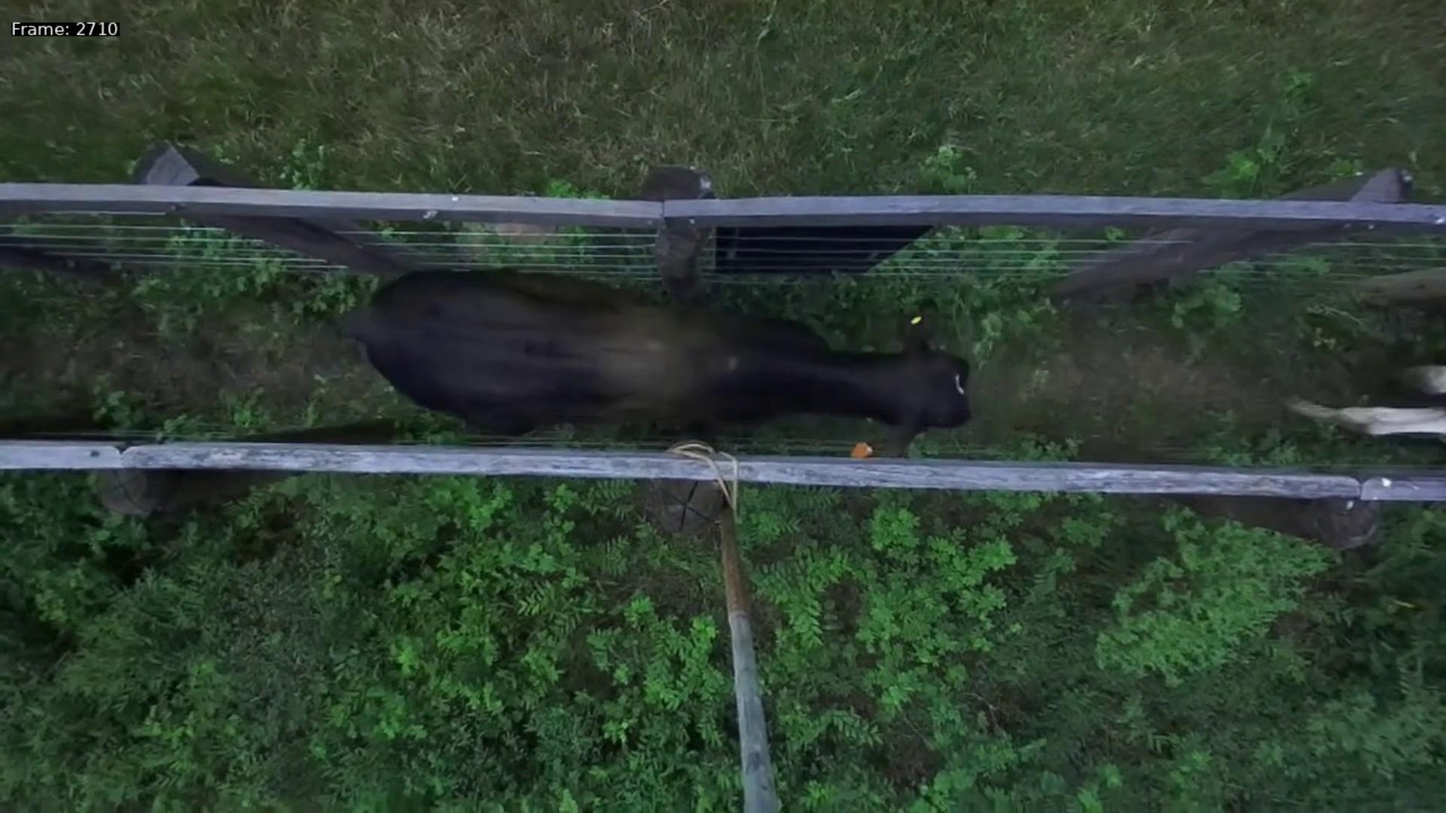cattle: (324, 249, 991, 475)
